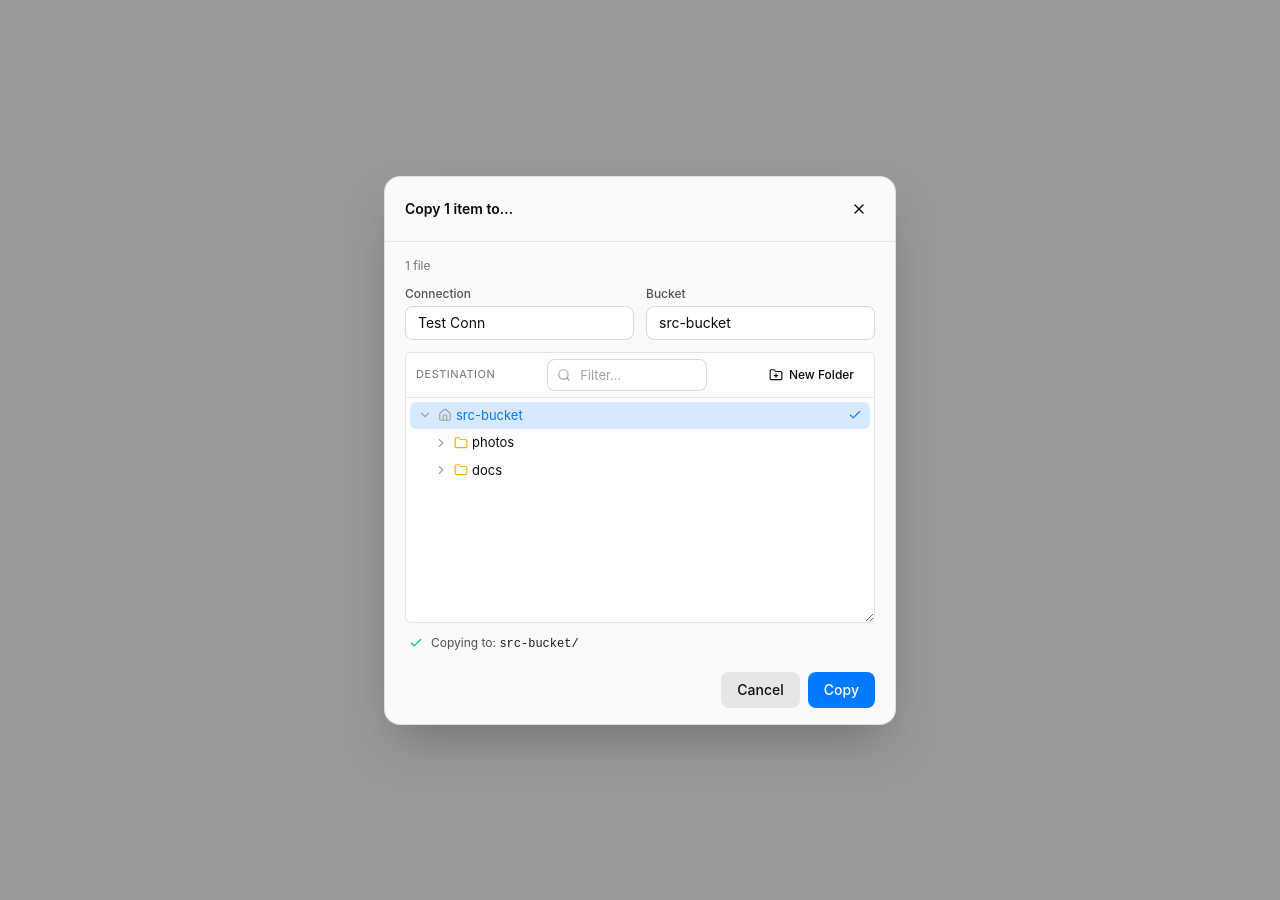
Test case: CopyToModal tree picker › selects a folder as the destination when its row body is clicked
The image size is (1280, 900).
Click the element with test id "copy-tree-row-photos/".
click(473, 443)  # box 432,434 -> 514,452
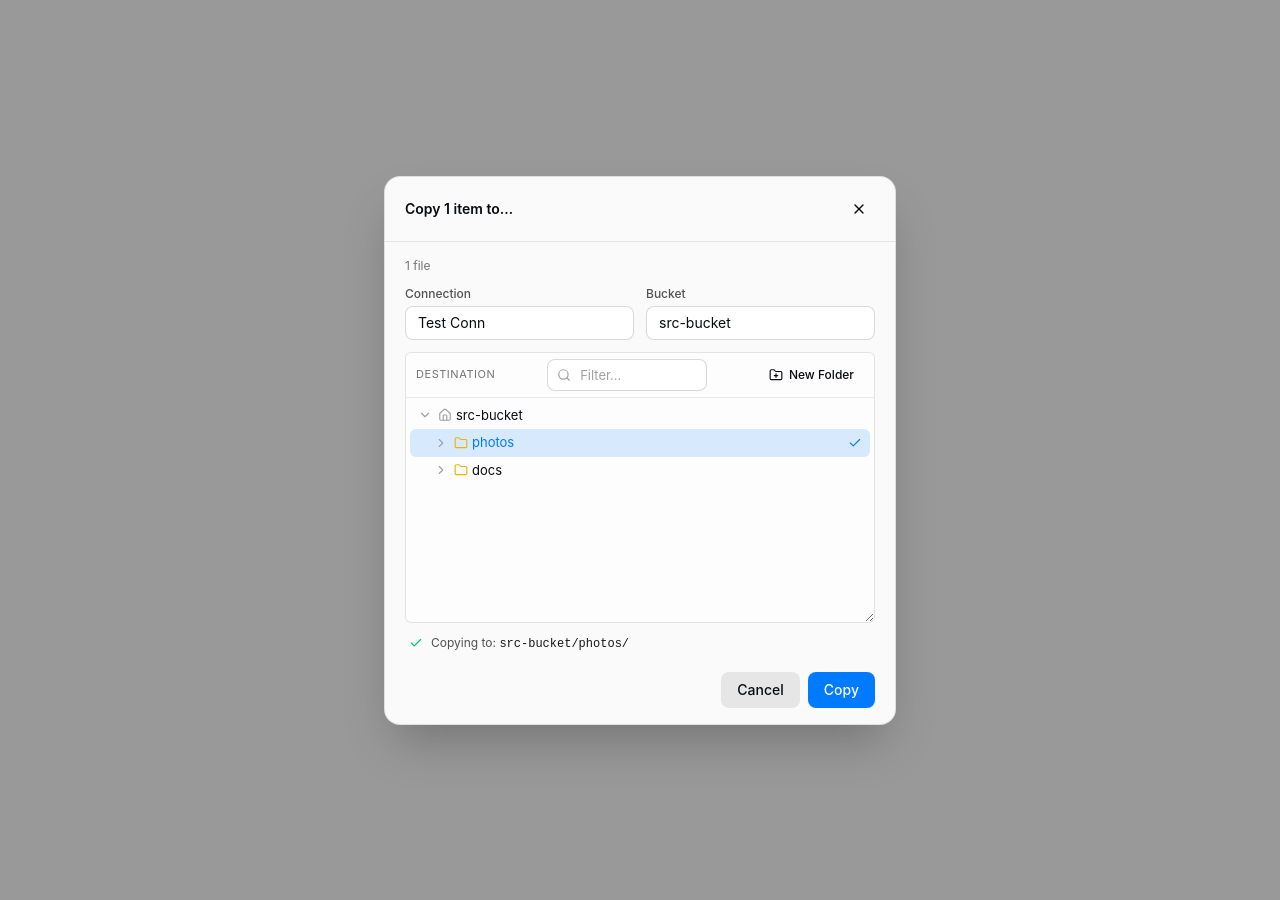
Result: the text with test id "copy-destination" reads "src-bucket/photos/" at 499,636 -> 629,650
